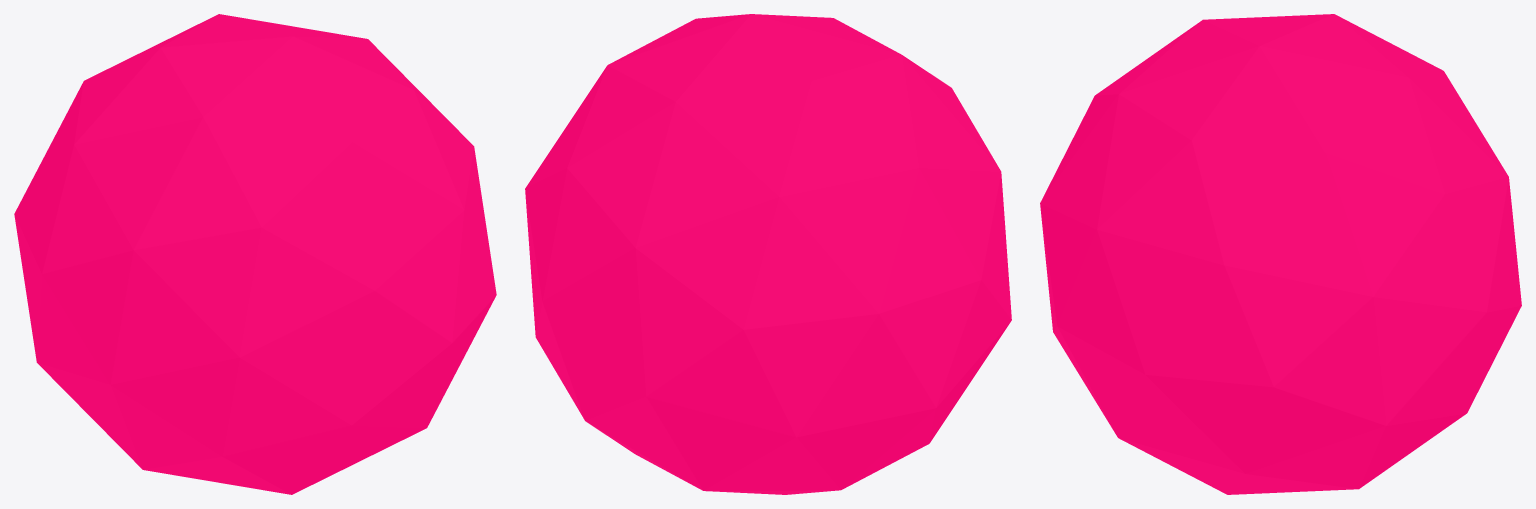
The model's file is 3.2_exam_3dscene_Gem1_simpletextured.glb.
3 views of the same model, side by side, from view 1: azimuth 30°, elevation 25°; view 2: azimuth 150°, elevation 25°; view 3: azimuth 270°, elevation 25° (orthographic). The views are drawn at different scales.
Visible parts, largest first — view 1: Gem1; view 2: Gem1; view 3: Gem1.
Boxes of the visible parts, x1,y1,x2,y2 form: Gem1: (14,14,496,494); Gem1: (525,14,1011,494); Gem1: (1040,14,1521,494).
Bounding box in the file's own units: 1.07 × 1.07 × 1.05.
